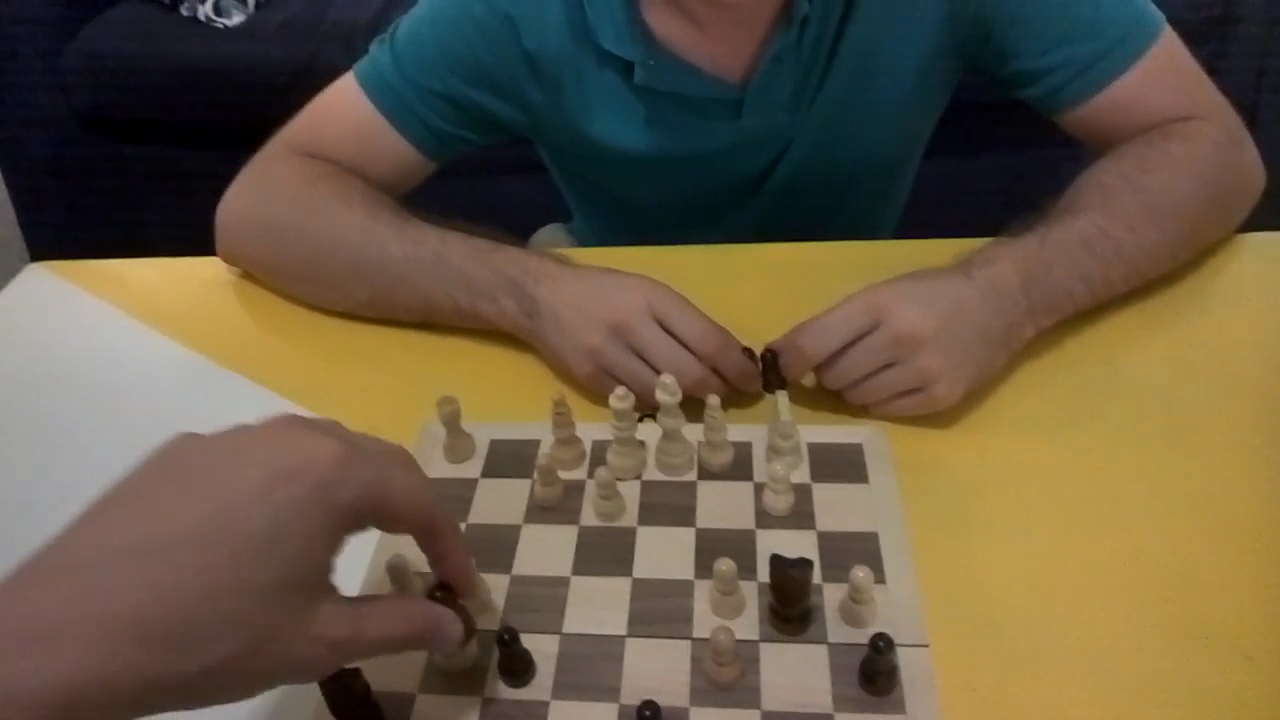hand: (6, 418, 472, 713), (521, 266, 766, 406), (777, 267, 1005, 415)
